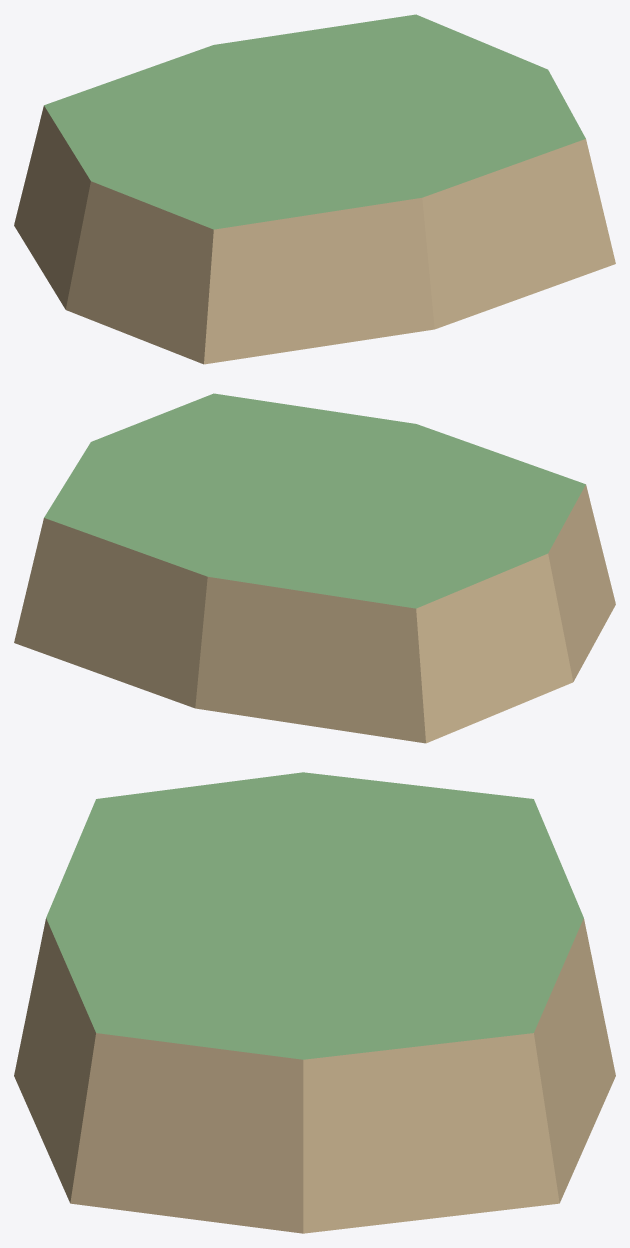
The model's file is LandSquare.fbx.
The picture shows the model from 3 angles, top to bottom: view 1: azimuth 30°, elevation 25°; view 2: azimuth 150°, elevation 25°; view 3: azimuth 270°, elevation 25°; orthographic projection. The views are drawn at different scales.
Visible parts, largest first — view 1: LandSquare; view 2: LandSquare; view 3: LandSquare.
Boxes of the visible parts, x1,y1,x2,y2 form: LandSquare: (14,14,615,364); LandSquare: (14,393,615,743); LandSquare: (14,772,615,1233).
Bounding box in the file's own units: 1731 × 400 × 1379.
